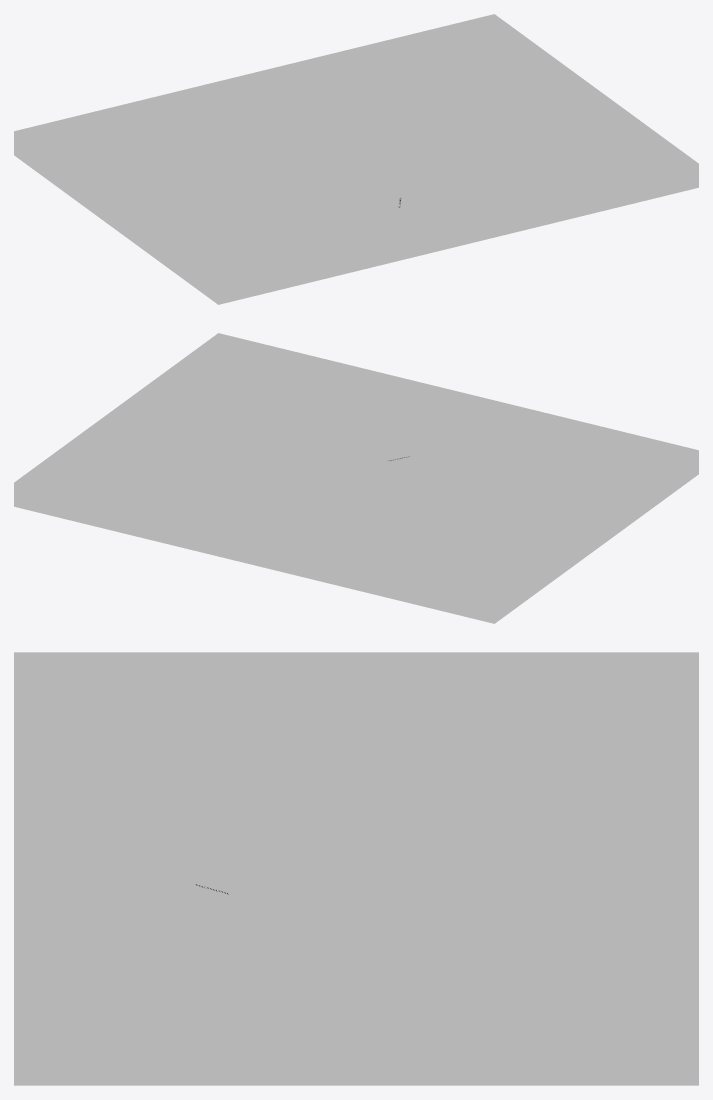
The model's file is 2022_april_pro_cw.dae.
3 views of the same model, one above another, from view 1: azimuth 30°, elevation 25°; view 2: azimuth 150°, elevation 25°; view 3: azimuth 270°, elevation 25° (orthographic). The views are drawn at different scales.
Parts seen in each view (by area): view 1: field, wall, road, il, ol, cl; view 2: field, wall, road, il, ol, cl; view 3: field, wall, road, ol, il, cl.
Boxes of the visible parts, x1=… form: field: x1=39, y1=38, x2=673, y2=280; wall: x1=14, y1=14, x2=698, y2=304; road: x1=83, y1=83, x2=616, y2=212; il: x1=107, y1=93, x2=591, y2=202; ol: x1=81, y1=82, x2=618, y2=213; cl: x1=94, y1=88, x2=604, y2=207; field: x1=39, y1=357, x2=673, y2=599; wall: x1=14, y1=333, x2=698, y2=623; road: x1=139, y1=388, x2=553, y2=594; il: x1=163, y1=398, x2=529, y2=586; ol: x1=137, y1=387, x2=555, y2=595; cl: x1=151, y1=393, x2=541, y2=591; field: x1=14, y1=692, x2=698, y2=1045; wall: x1=14, y1=652, x2=698, y2=1085; road: x1=51, y1=708, x2=661, y2=1045; ol: x1=48, y1=707, x2=665, y2=1045; il: x1=91, y1=725, x2=621, y2=1045; cl: x1=71, y1=716, x2=641, y2=1045.
Bounding box in the file's own units: 20.94 × 15.43 × 1.
